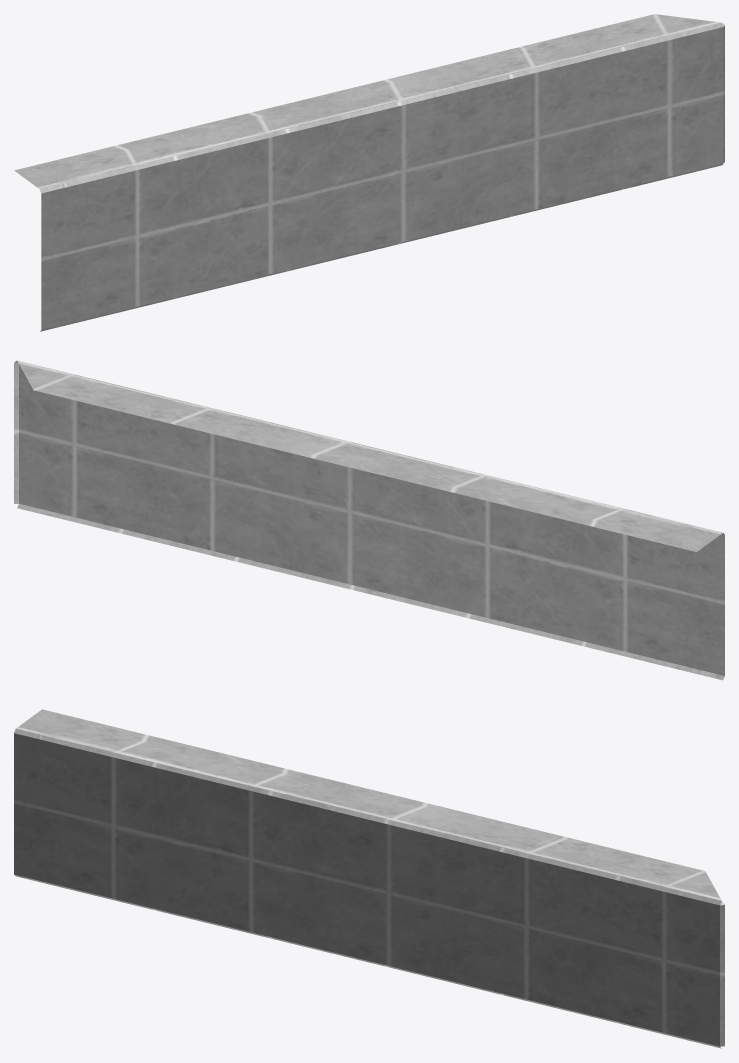
The picture shows the model from 3 angles, top to bottom: view 1: azimuth 30°, elevation 25°; view 2: azimuth 150°, elevation 25°; view 3: azimuth 330°, elevation 25°; orthographic projection. The views are drawn at different scales.
Parts seen in each view (by area): view 1: FP421:polySurface109_4041d42b; view 2: FP421:polySurface109_4041d42b; view 3: FP421:polySurface109_4041d42b.
Part boxes in pixels (box(x1,y1,x2,y2)): FP421:polySurface109_4041d42b: box(14, 14, 724, 331); FP421:polySurface109_4041d42b: box(14, 360, 724, 680); FP421:polySurface109_4041d42b: box(14, 709, 724, 1048).
Bounding box in the file's own units: 0.8437 × 0.1679 × 0.0582.
